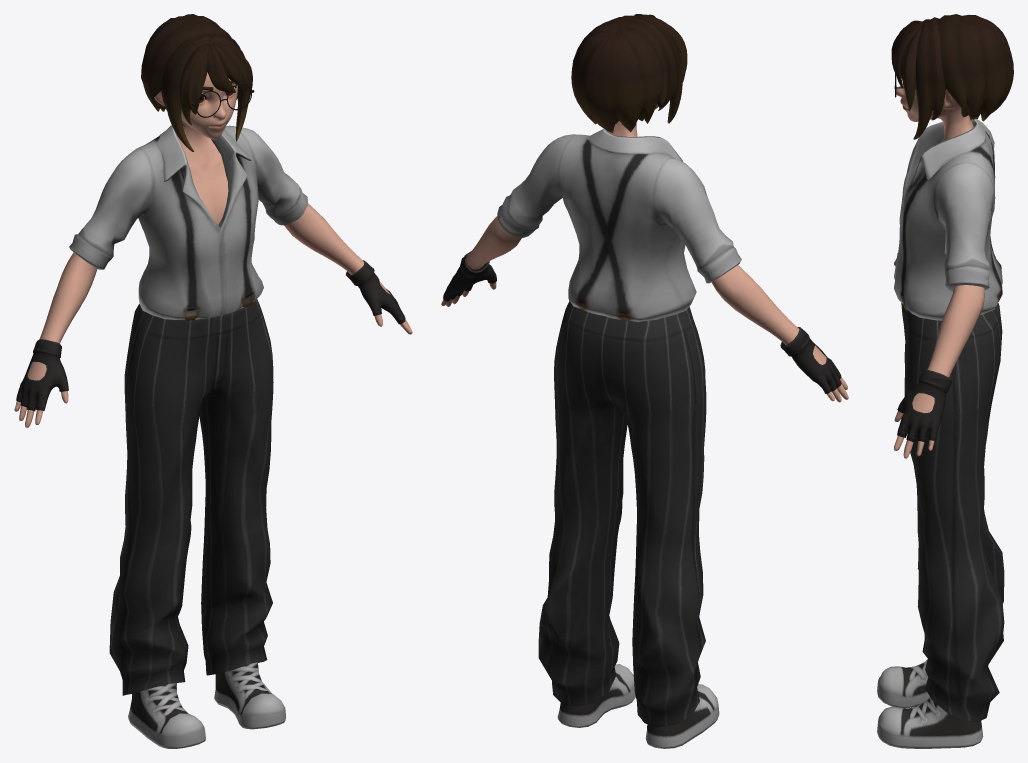
File: StaffPebbles_Mesh.obj
3 renders of one model, left to right at view 1: azimuth 30°, elevation 25°; view 2: azimuth 150°, elevation 25°; view 3: azimuth 270°, elevation 25°, orthographic. The views are drawn at different scales.
Parts seen in each view (by area): view 1: StaffPebbles_Mesh_0; view 2: StaffPebbles_Mesh_0; view 3: StaffPebbles_Mesh_0.
Boxes of the visible parts, x1,y1,x2,y2 form: StaffPebbles_Mesh_0: (14, 14, 412, 748); StaffPebbles_Mesh_0: (441, 14, 848, 748); StaffPebbles_Mesh_0: (877, 14, 1013, 748).
Bounding box in the file's own units: 1.06 × 1.8 × 0.3191.
Materials: 1 (1 with a texture image).
